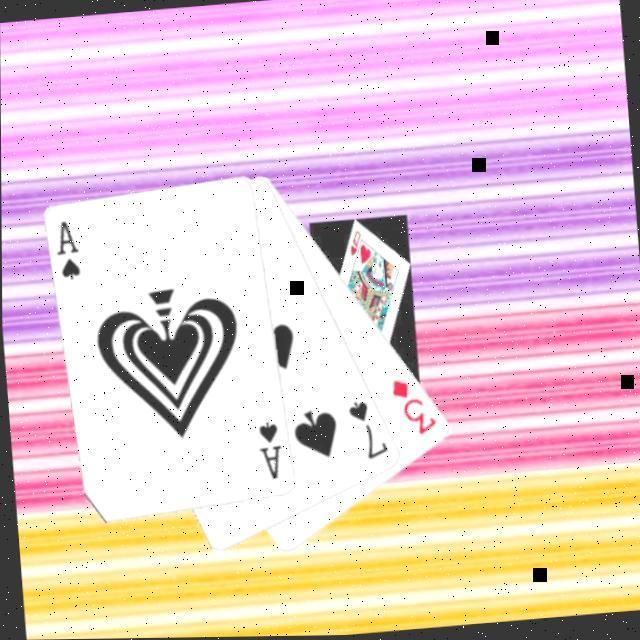3D: (389, 371, 441, 439)
7S: (345, 394, 393, 463)
AS: (52, 214, 86, 282), (255, 416, 288, 482)
